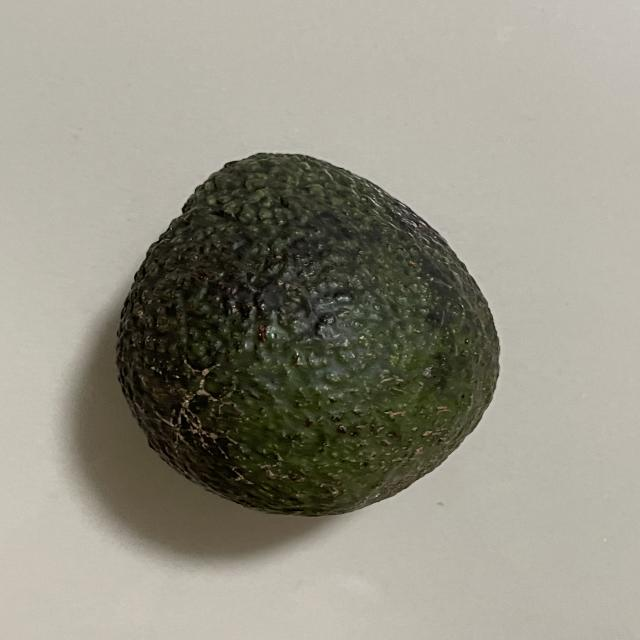Level1: (104, 140, 517, 530)
